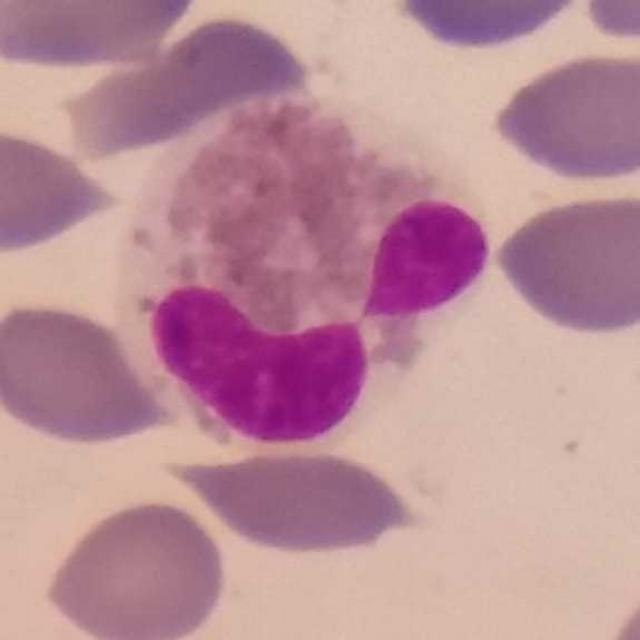Eosinophil: (115, 80, 494, 453)
RBC: (48, 9, 326, 174), (164, 439, 430, 561), (38, 494, 230, 640), (0, 294, 176, 450), (491, 186, 640, 340), (487, 45, 640, 188), (0, 120, 122, 259), (1, 0, 203, 73), (386, 0, 593, 55), (574, 0, 640, 47)
